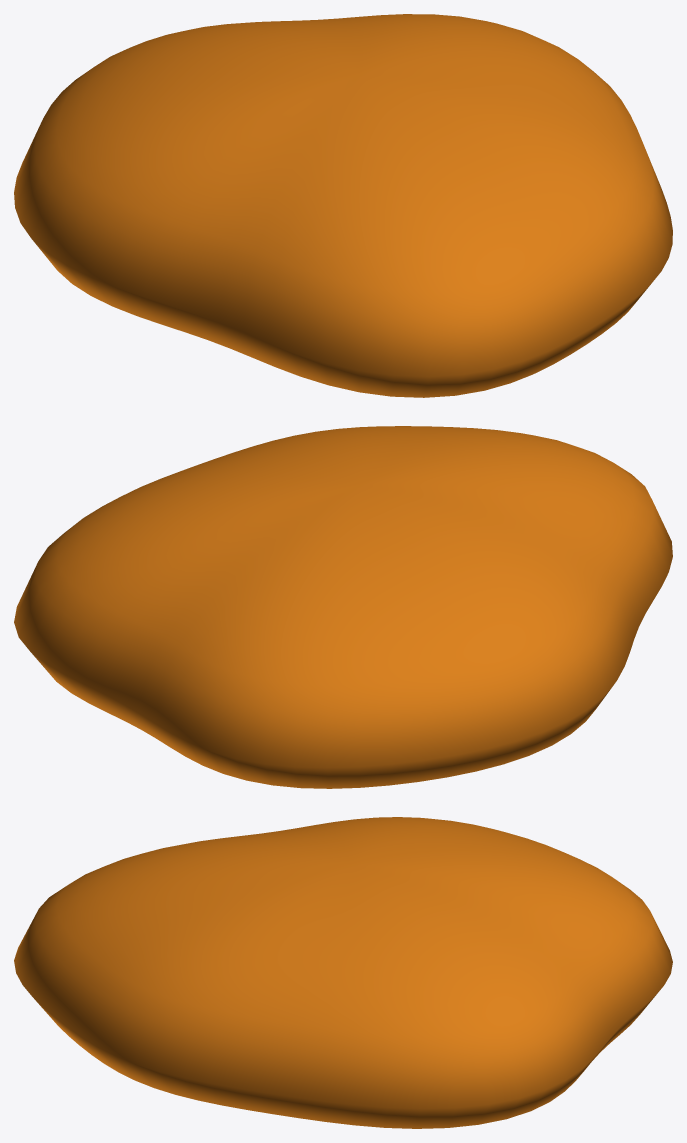
The model's file is stone-amber.glb.
The picture shows the model from 3 angles, top to bottom: view 1: azimuth 30°, elevation 25°; view 2: azimuth 150°, elevation 25°; view 3: azimuth 270°, elevation 25°; orthographic projection. The views are drawn at different scales.
Visible parts, largest first — view 1: Sculpture; view 2: Sculpture; view 3: Sculpture.
Boxes of the visible parts, x1,y1,x2,y2 form: Sculpture: (14,14,672,397); Sculpture: (14,426,672,788); Sculpture: (14,817,672,1128).
Bounding box in the file's own units: 2.06 × 0.6 × 2.38.
